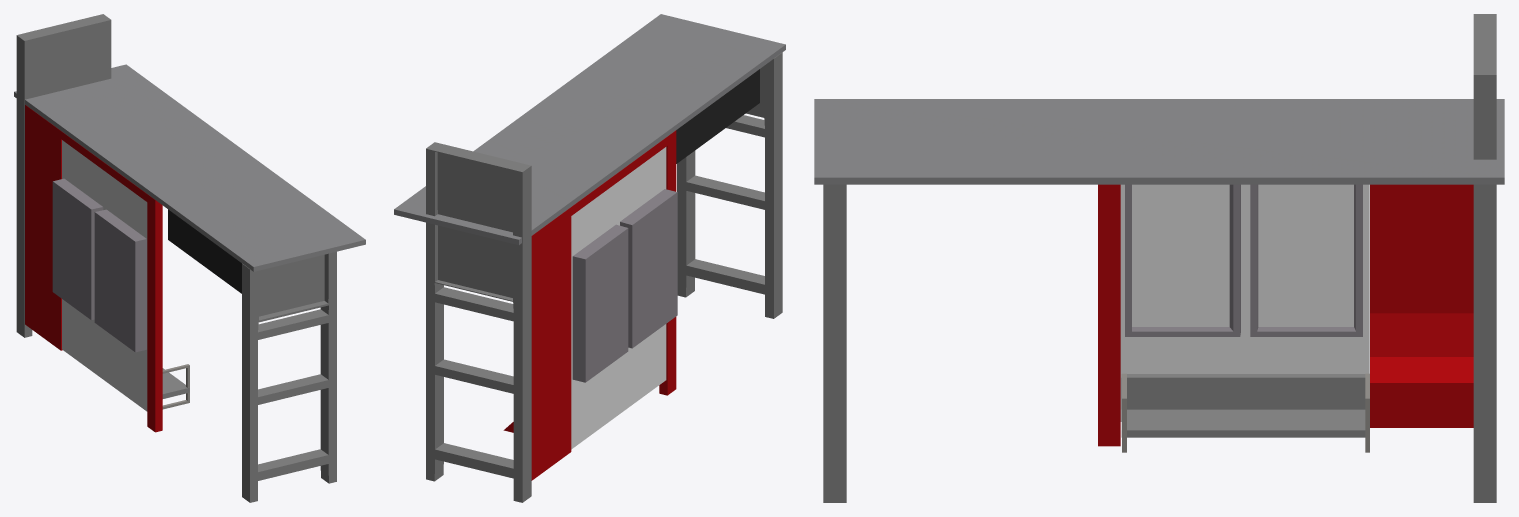
File: paradabus1.fbx
The picture shows the model from 3 angles, left to right: view 1: azimuth 30°, elevation 25°; view 2: azimuth 150°, elevation 25°; view 3: azimuth 270°, elevation 25°; orthographic projection. The views are drawn at different scales.
Visible parts, largest first — view 1: Cube.006, Cube.005, Cube.007, Cube.010, Cube.011, Plane.002, Cube.009, Cube.008; view 2: Cube.006, Cube.011, Cube.010, Cube.007, Cube.005, Plane.002, Cube.009; view 3: Cube.006, Plane.002, Cube.007, Cube.008, Cube.011, Cube.005, Cube.010.
Boxes of the visible parts, x1,y1,x2,y2 form: Cube.006: (14, 64, 365, 271); Cube.005: (242, 251, 336, 502); Cube.007: (25, 105, 162, 432); Cube.010: (52, 178, 146, 352); Cube.011: (16, 14, 111, 337); Plane.002: (62, 140, 147, 411); Cube.009: (168, 209, 241, 293); Cube.008: (162, 368, 189, 398); Cube.006: (394, 14, 785, 244); Cube.011: (426, 142, 531, 502); Cube.010: (572, 189, 677, 382); Cube.007: (503, 130, 676, 480); Cube.005: (677, 52, 782, 318); Plane.002: (571, 147, 666, 449); Cube.009: (676, 69, 759, 163); Cube.006: (814, 99, 1504, 184); Plane.002: (1120, 184, 1369, 421); Cube.007: (1098, 184, 1473, 446); Cube.008: (1121, 374, 1365, 437); Cube.011: (1473, 14, 1496, 502); Cube.005: (823, 184, 846, 502); Cube.010: (1125, 184, 1362, 336).
Bounding box in the file's own units: 220 × 510 × 745.
